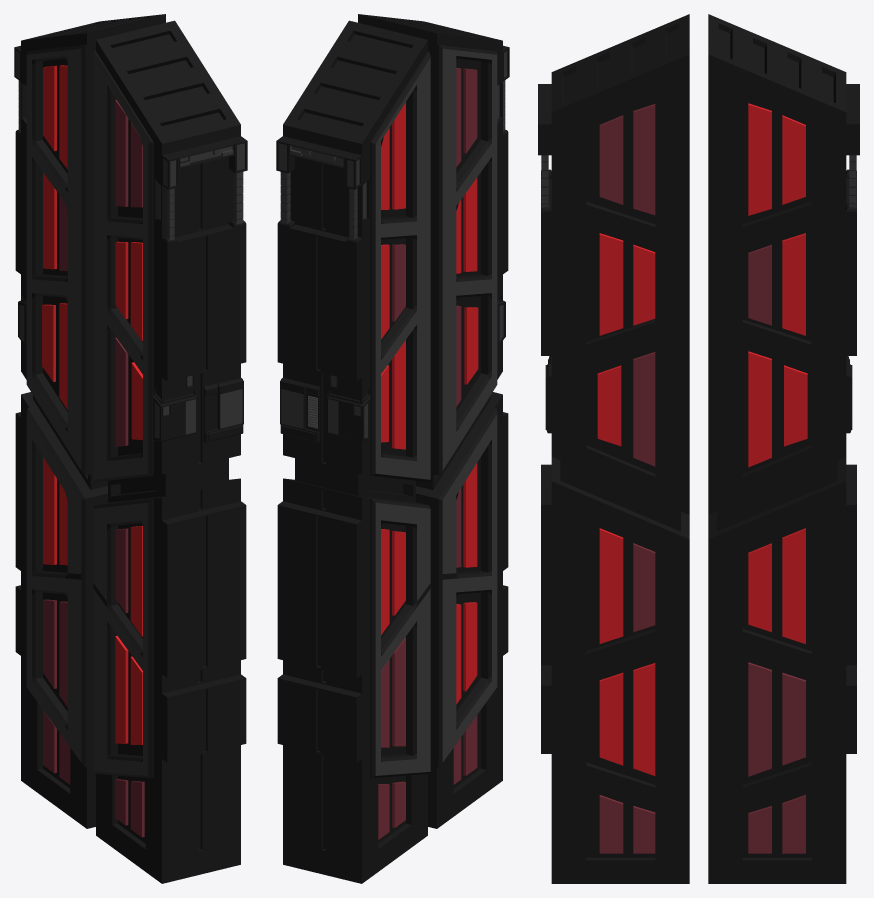
The model's file is Building6_Fixed.fbx.
The picture shows the model from 3 angles, left to right: view 1: azimuth 30°, elevation 25°; view 2: azimuth 150°, elevation 25°; view 3: azimuth 270°, elevation 25°; orthographic projection. The views are drawn at different scales.
Parts seen in each view (by area): view 1: Edificio6.002, VentanasEdificio6; view 2: Edificio6.002, VentanasEdificio6; view 3: Edificio6.002, VentanasEdificio6.
Part boxes in pixels (left/top/right/bottom): Edificio6.002: left=14, top=14, right=247, bottom=883; VentanasEdificio6: left=42, top=65, right=144, bottom=837; Edificio6.002: left=276, top=14, right=509, bottom=883; VentanasEdificio6: left=378, top=68, right=478, bottom=839; Edificio6.002: left=538, top=14, right=859, bottom=883; VentanasEdificio6: left=597, top=103, right=807, bottom=853.
Bounding box in the file's own units: 5308 × 48565 × 17065.
